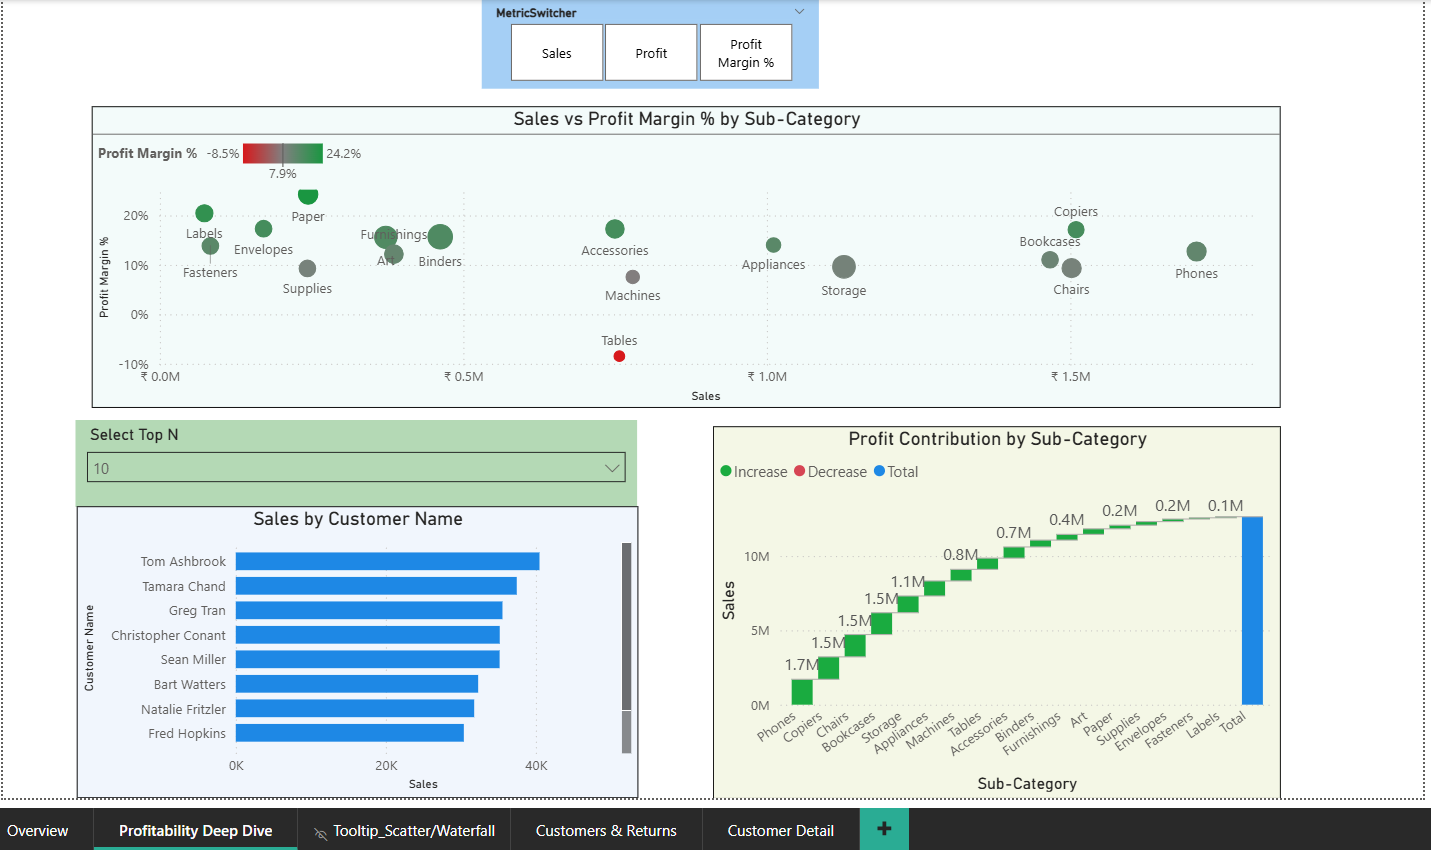

What the dashboard file says about the page in this screenshot:
{"tool":"powerbi","page":{"name":"Profitability Deep Dive","canvas":[1280,720],"ordinal":1},"visuals":[{"type":"waterfallChart","title":"Profit Contribution by Sub-Category","fields":{"Y":["_Measures.Sales"],"Category":["Orders_Clean.Sub-Category"]},"box":[640,384,512,336],"z":0},{"type":"scatterChart","title":"Sales vs Profit Margin % by Sub-Category","fields":{"X":["_Measures.Sales"],"Y":["_Measures.Profit Margin %"],"Size":["_Measures.Orders Count"],"Category":["Orders_Clean.Sub-Category"]},"box":[80,96,1072,272],"z":1000},{"type":"slicer","fields":{"Values":["TopN.Value"]},"box":[65.9,378.7,506.3,78.2],"z":2000},{"type":"clusteredBarChart","fields":{"Category":["Orders_Clean.Customer Name"],"Y":["_Measures.Sales"]},"box":[66,457,506,263],"z":3000},{"type":"slicer","fields":{"Values":["MetricSwitcher.MetricSwitcher"]},"box":[432,0,304,80],"z":3001}]}

Visuals, with their boxes in screenshot pixels (x1, y1, x2, y2):
"Profit Contribution by Sub-Category" waterfallChart: <region>709, 431, 1274, 801</region>
"Sales vs Profit Margin % by Sub-Category" scatterChart: <region>92, 113, 1274, 413</region>
slicer - TopN.Value: <region>76, 425, 635, 511</region>
clusteredBarChart - Orders_Clean.Customer Name x _Measures.Sales: <region>76, 511, 634, 801</region>
slicer - MetricSwitcher.MetricSwitcher: <region>480, 7, 815, 96</region>
